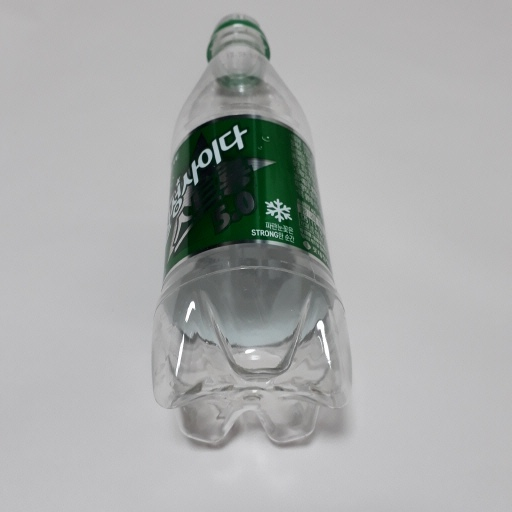Plastic_0: (150, 11, 355, 449)
